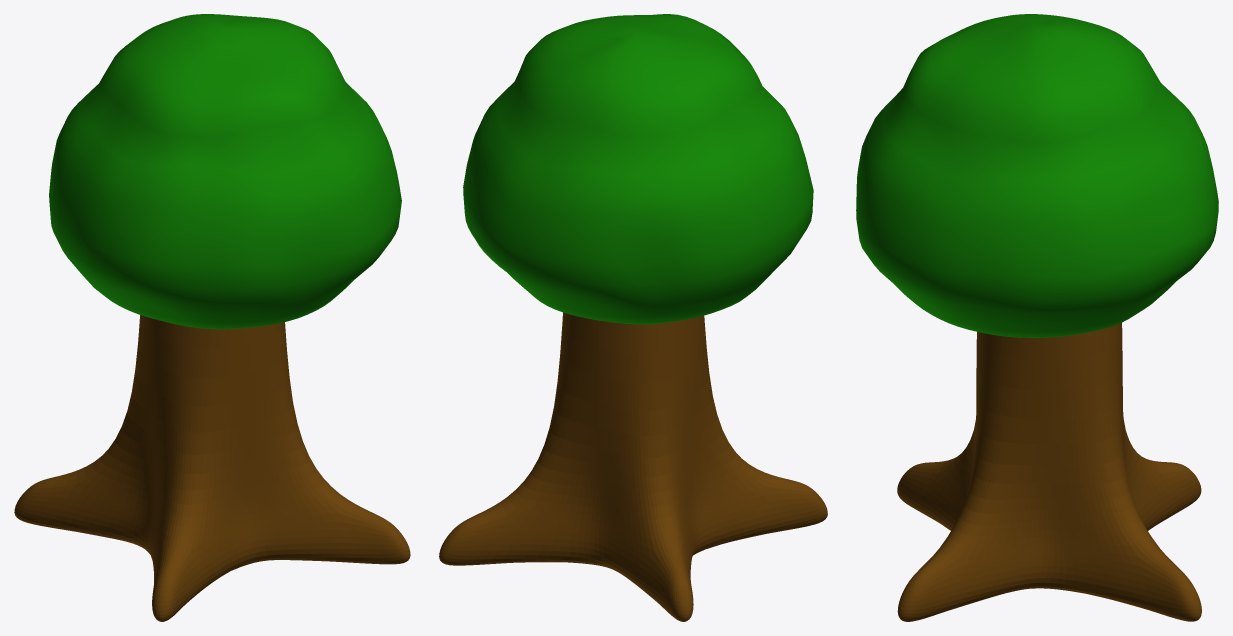
Rendered from Small_tree.glb.
3 views of the same model, side by side, from view 1: azimuth 30°, elevation 25°; view 2: azimuth 150°, elevation 25°; view 3: azimuth 270°, elevation 25° (orthographic). The views are drawn at different scales.
Visible parts, largest first — view 1: Small_top, Small_tree; view 2: Small_top, Small_tree; view 3: Small_top, Small_tree.
Part boxes in pixels (<box>): Small_top: <box>49,14,401,329</box>; Small_tree: <box>14,315,410,621</box>; Small_top: <box>463,14,813,324</box>; Small_tree: <box>439,312,827,621</box>; Small_top: <box>856,14,1218,337</box>; Small_tree: <box>897,323,1201,621</box>.
Bounding box in the file's own units: 0.8131 × 1.32 × 0.8107.
